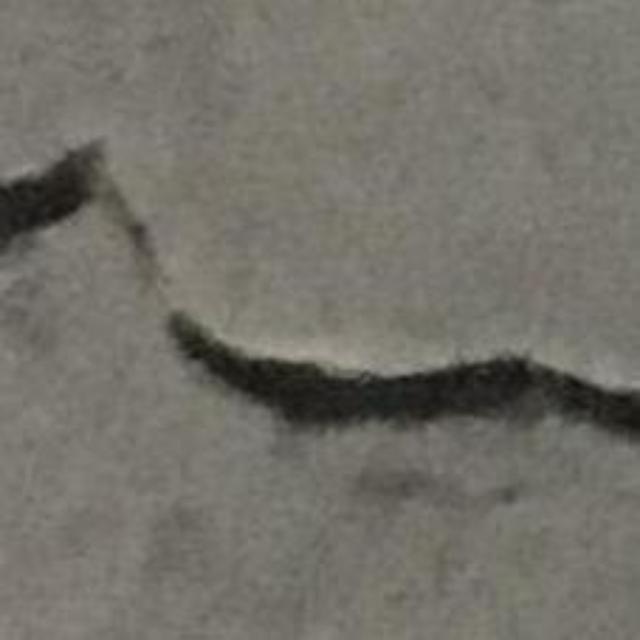crack: (170, 313, 639, 437), (0, 139, 166, 290), (0, 141, 104, 248)
